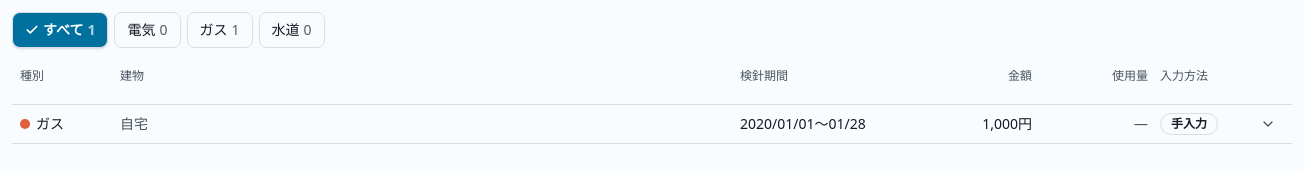
Test: RecordList › says when the chosen utility has no records
Click the button "電気 0". click: point(148, 30)
box: [114,12,180,48]
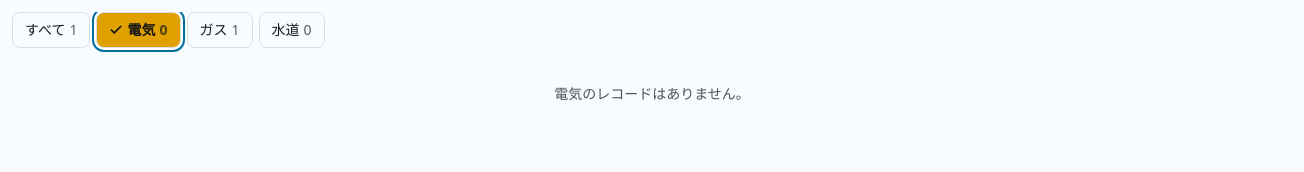
Expected: the text "電気のレコードはありません。" is shown, [554,84,750,103]
Expected: the list is gone
